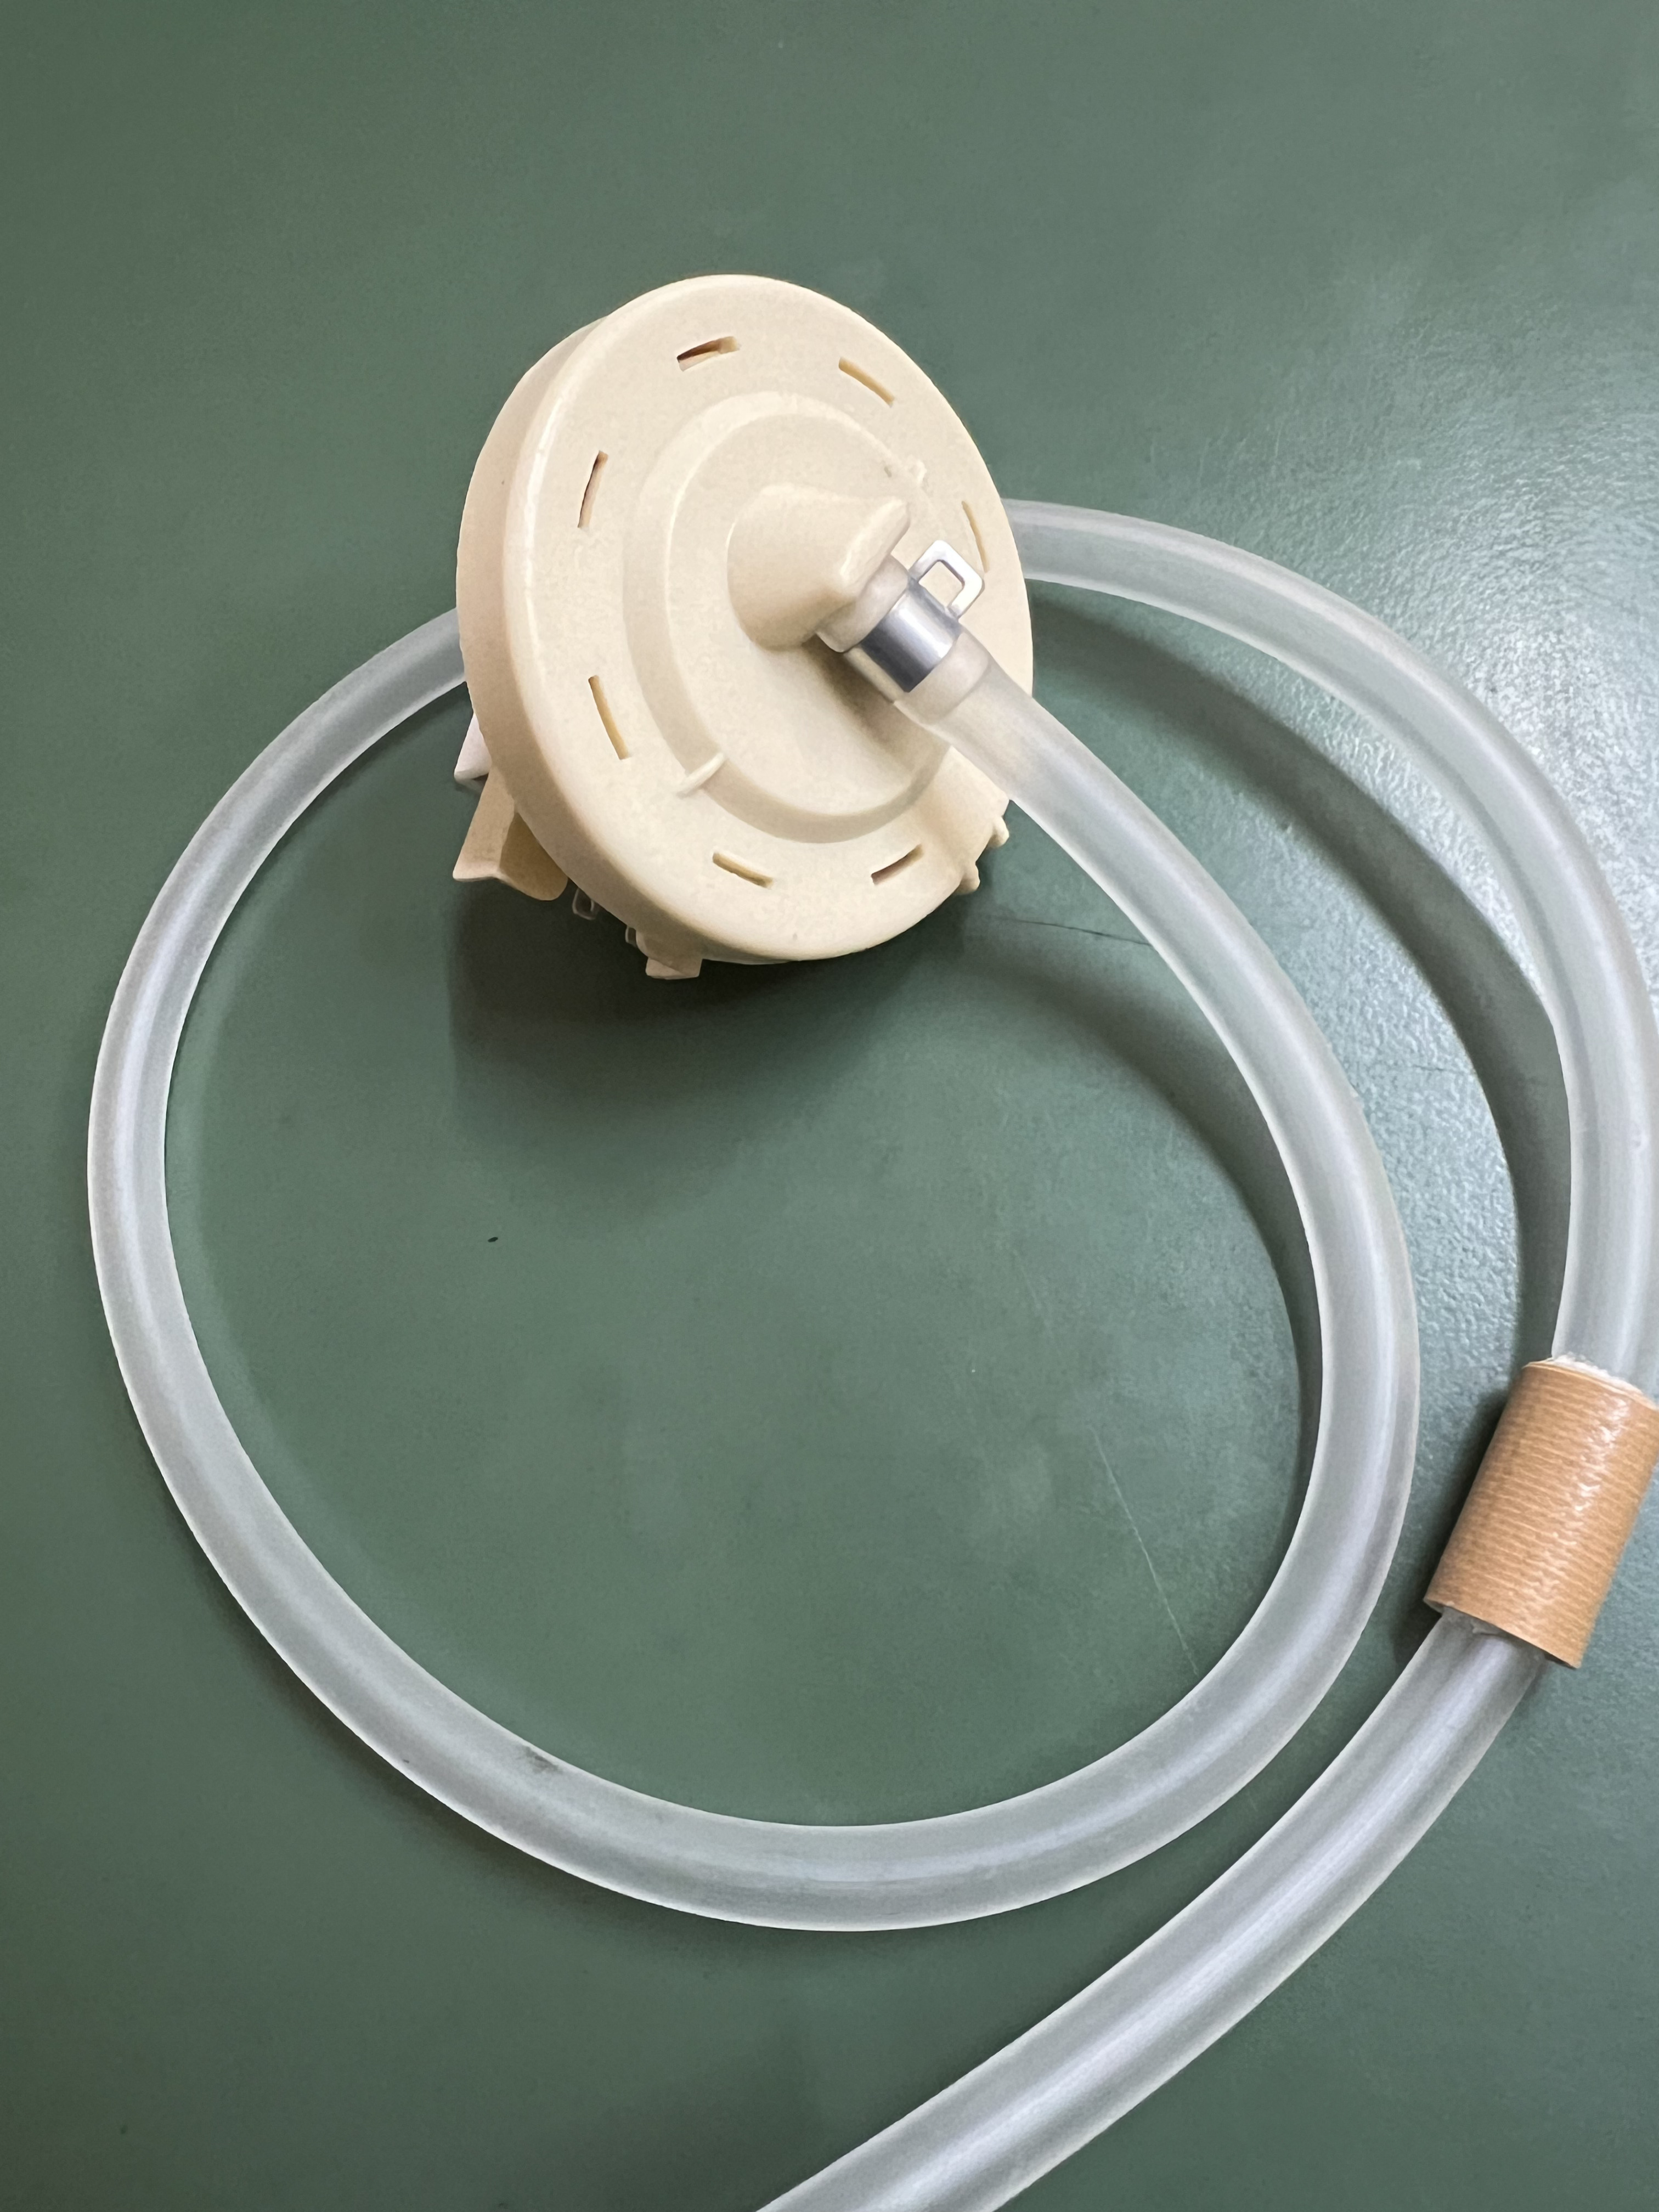pressure_sensor: (99, 289, 1659, 2015)
